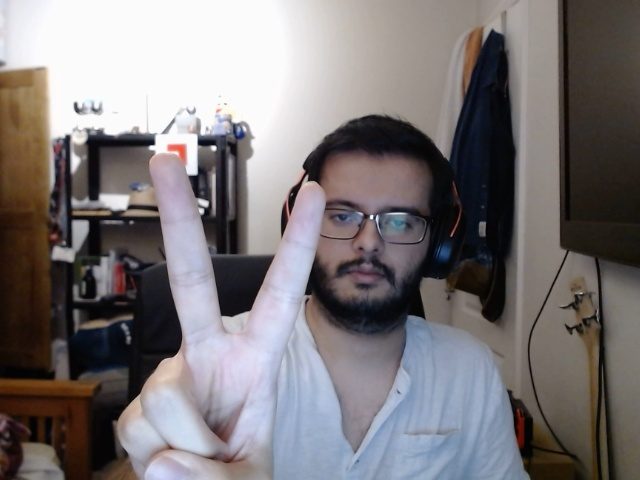Peace: (111, 147, 338, 480)
